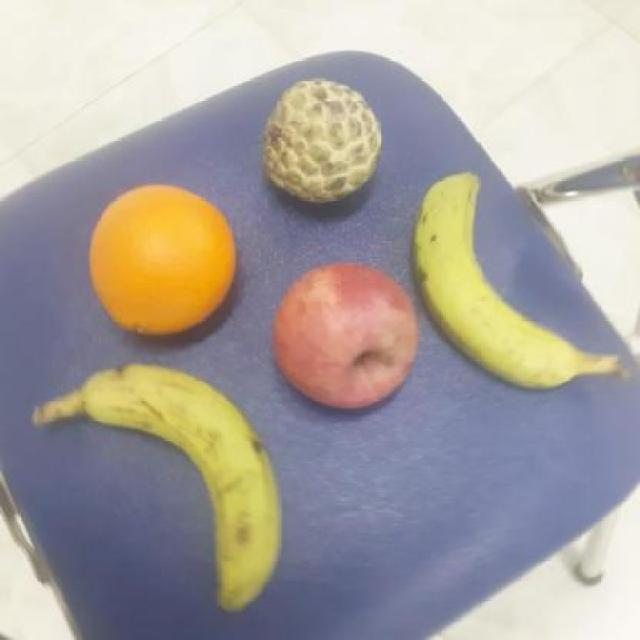apple: (270, 259, 422, 410)
banana: (73, 360, 284, 612), (409, 167, 576, 396)
oren: (81, 181, 242, 337)
sugar apple: (256, 78, 381, 208)
